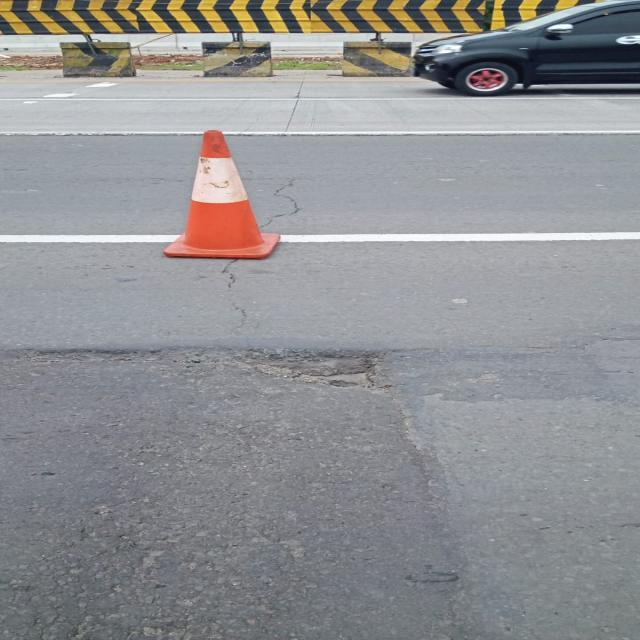Buraco: (219, 344, 397, 396)
